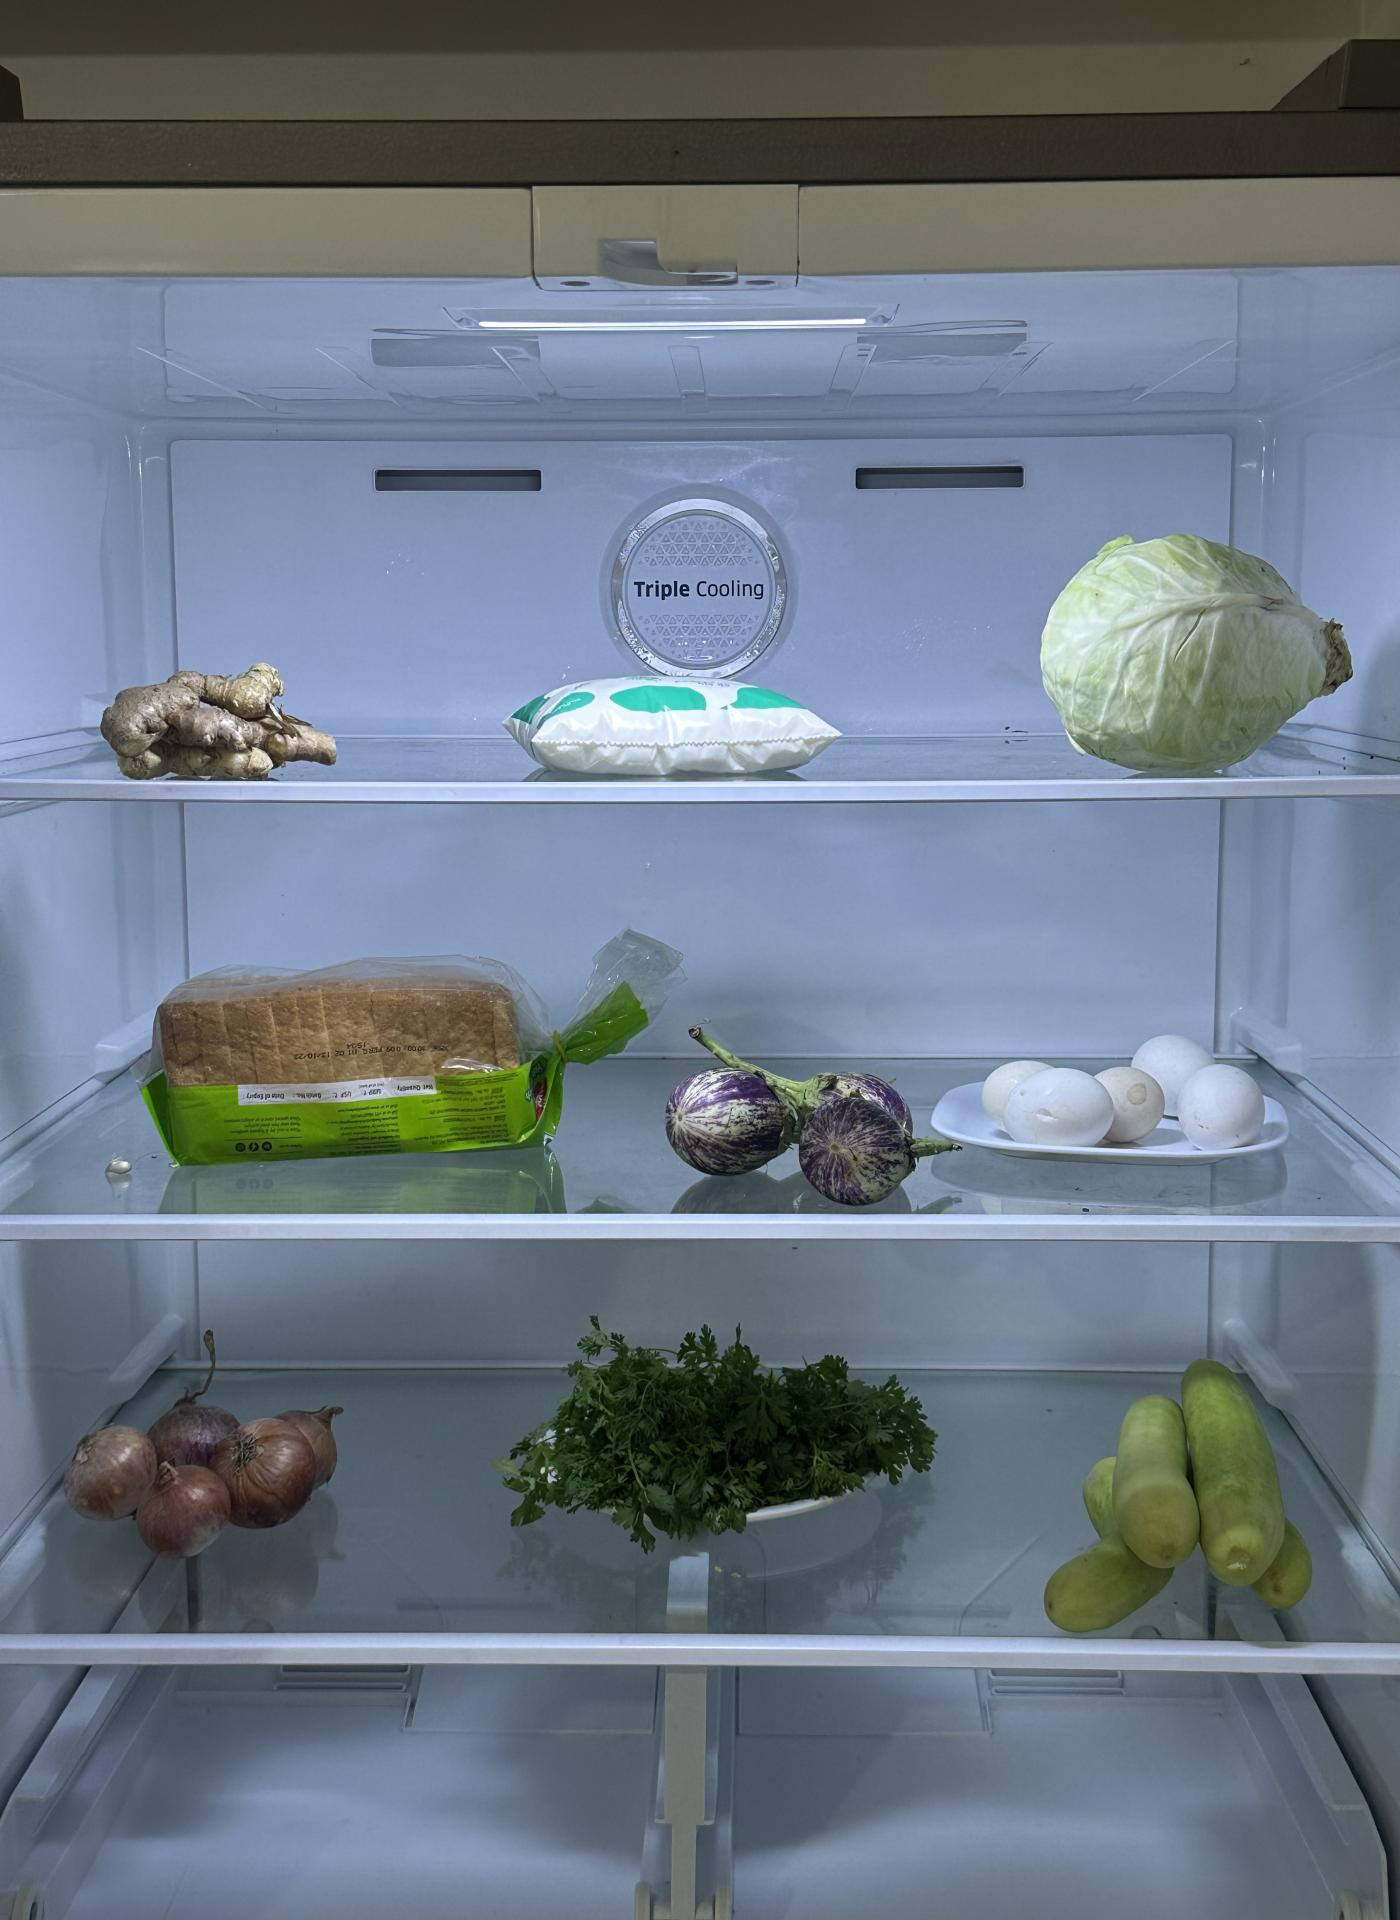bread: (140, 944, 543, 1152)
cabbage: (1038, 529, 1369, 775)
coriander: (514, 1319, 902, 1526)
cucumber: (1038, 1373, 1336, 1632)
egg: (969, 1035, 1276, 1152)
ginger: (112, 653, 340, 795)
milk: (496, 653, 854, 790)
onion: (39, 1382, 362, 1561)
